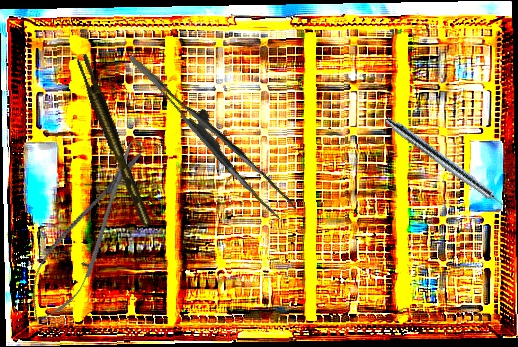Handpiece: (381, 114, 516, 218)
Micro Scissor: (12, 132, 161, 335)
Tissue Forceps: (128, 31, 297, 235), (74, 51, 152, 230)
